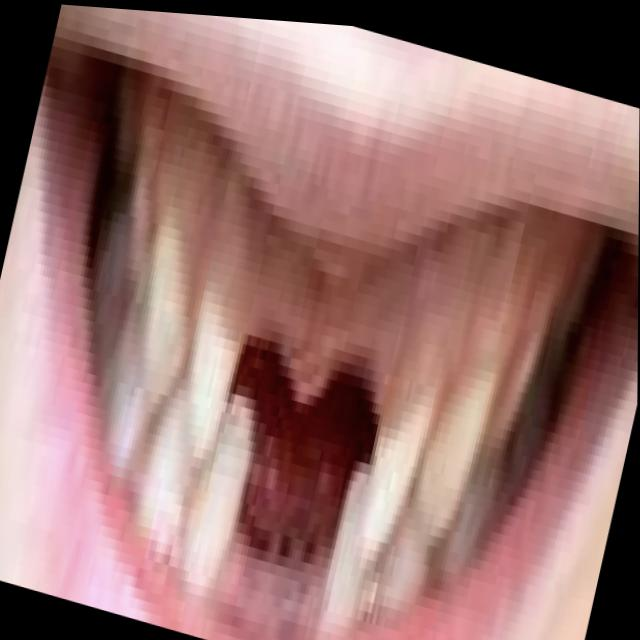hypodontia: (211, 336, 378, 639)
